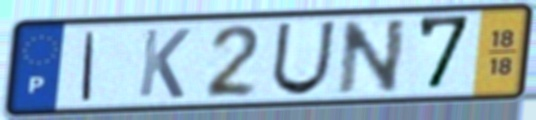2: (205, 23, 263, 101)
7: (416, 14, 473, 95)
I: (78, 29, 99, 103)
K: (134, 27, 194, 101)
N: (336, 15, 410, 97)
U: (268, 19, 339, 98)
